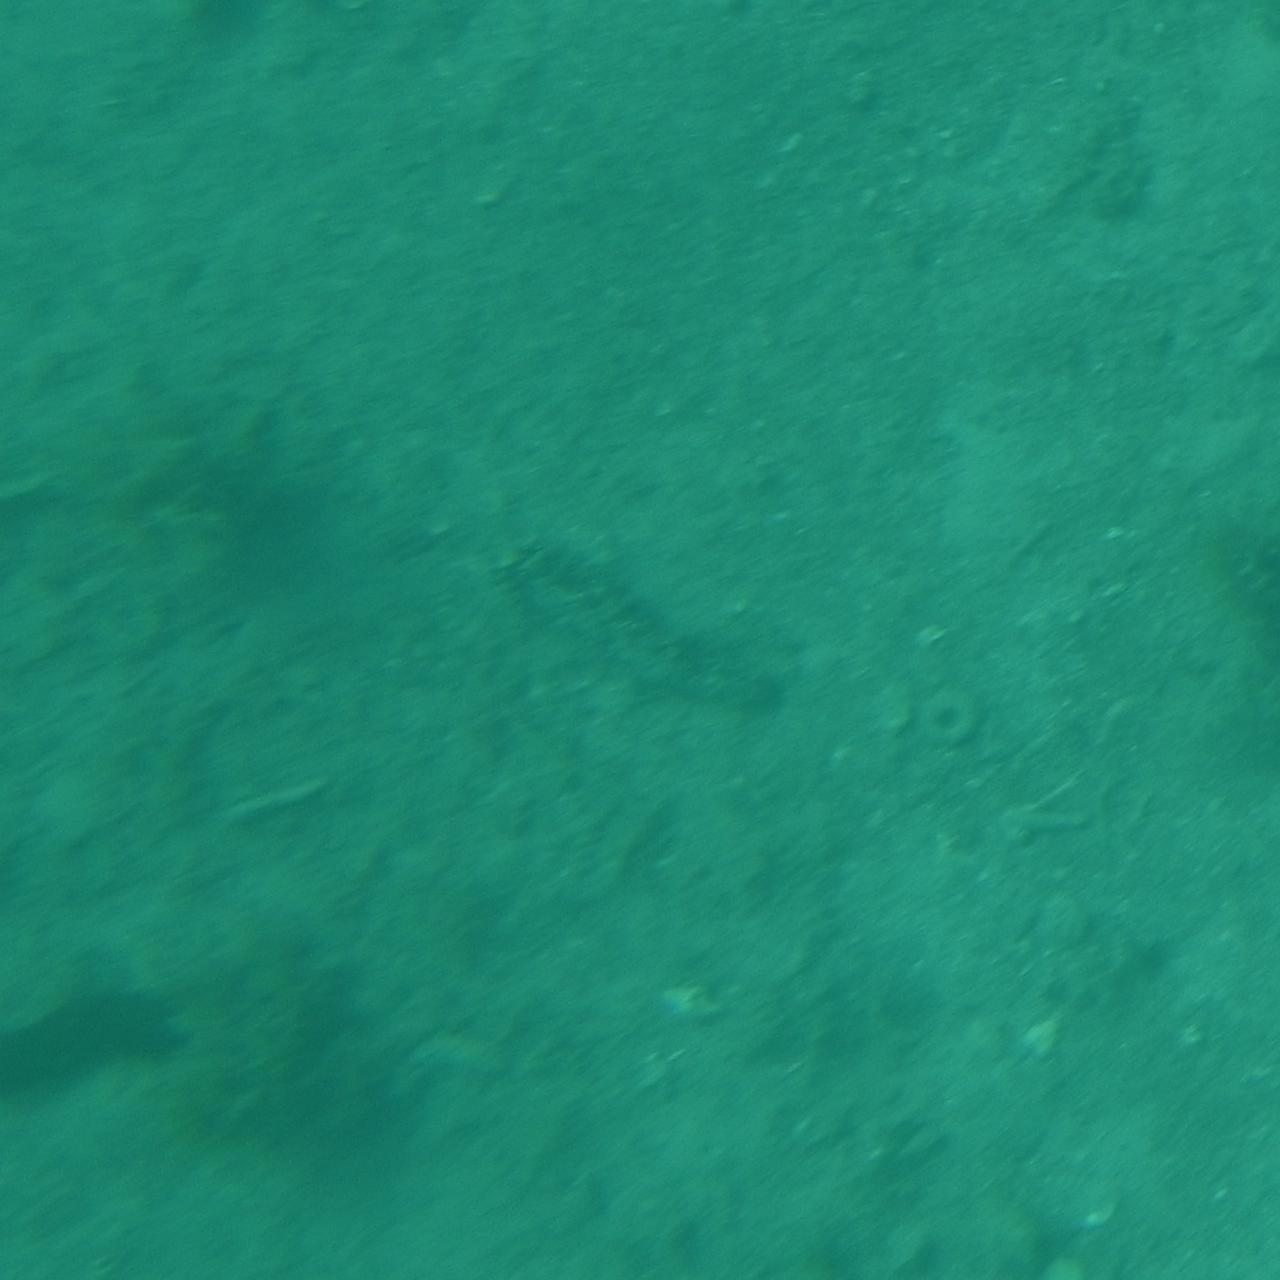Holothuria tubulosa: (492, 550, 788, 730)
